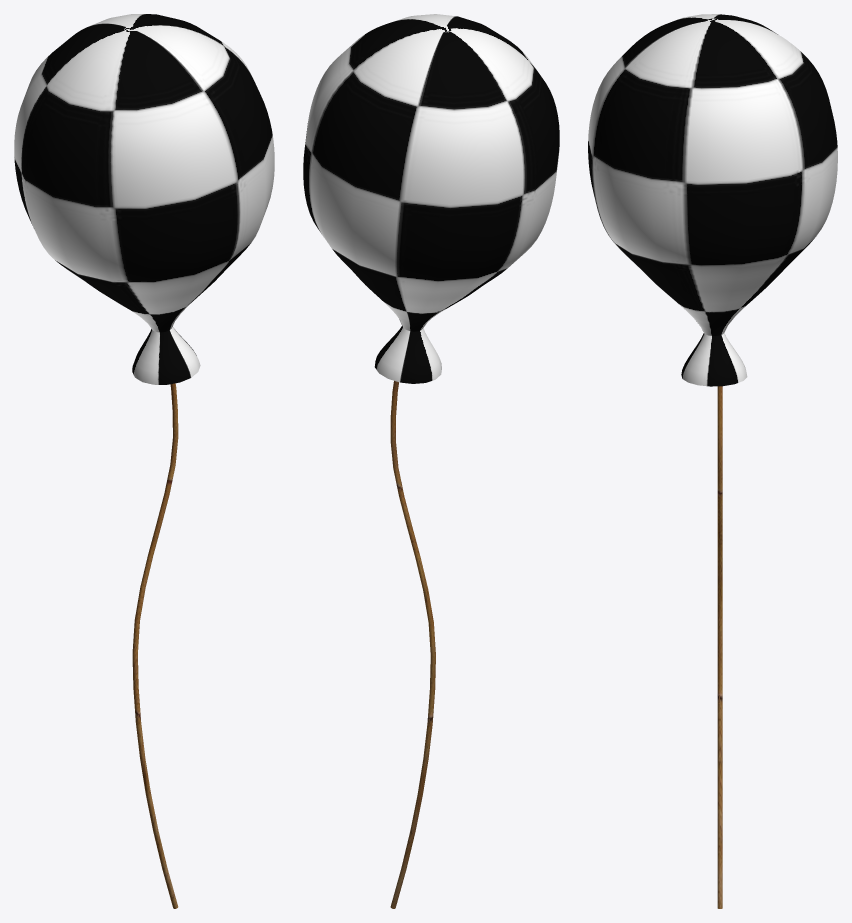
The model's file is balloon.FBX.
3 renders of one model, left to right at view 1: azimuth 30°, elevation 25°; view 2: azimuth 150°, elevation 25°; view 3: azimuth 270°, elevation 25°, orthographic. The views are drawn at different scales.
Parts seen in each view (by area): view 1: Line001, Line002; view 2: Line001, Line002; view 3: Line001, Line002.
Boxes of the visible parts, x1,y1,x2,y2 form: Line001: [14, 14, 274, 384]; Line002: [132, 383, 178, 908]; Line001: [303, 14, 559, 383]; Line002: [390, 381, 435, 908]; Line001: [588, 14, 837, 386]; Line002: [717, 386, 722, 908].
Size of the model in its own units: 48.3 by 184 by 48.08.
2 materials, 2 textured.
